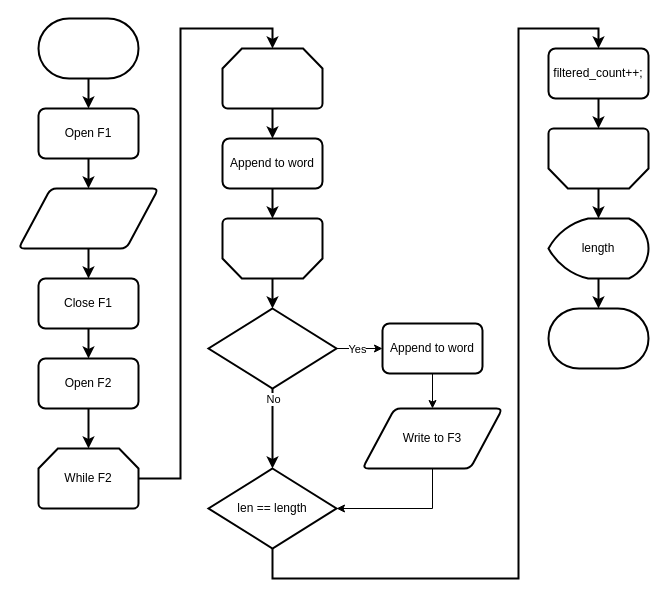
Image size: 666x604. Some labels were removed from this diagram. The shapes that lost their labels are listed below. From the top down, each one's centre as x and y in pixels, then its label:
point 88,48: Start
point 272,78: While sym == letter
point 88,218: Fill F1 (stop 15070014)
point 272,348: len > length
point 598,338: End
